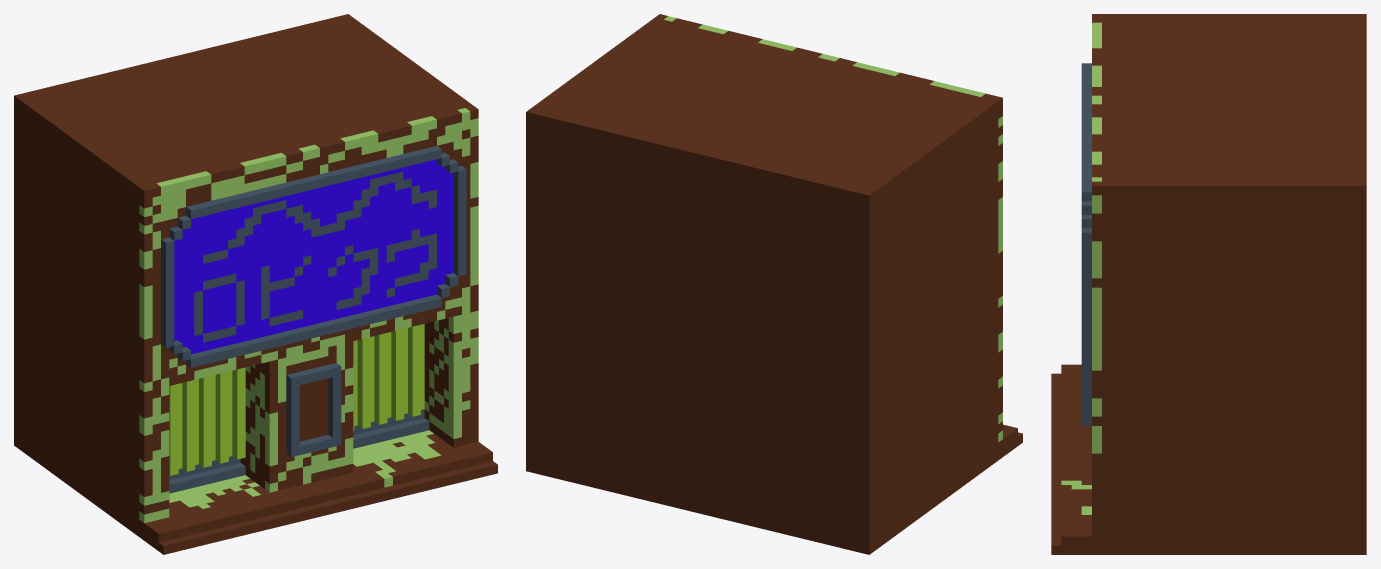
Rendered from edificio003.obj.
3 renders of one model, left to right at view 1: azimuth 30°, elevation 25°; view 2: azimuth 150°, elevation 25°; view 3: azimuth 270°, elevation 25°, orthographic. The views are drawn at different scales.
Size of the model in its own units: 4 by 4 by 3.1.
